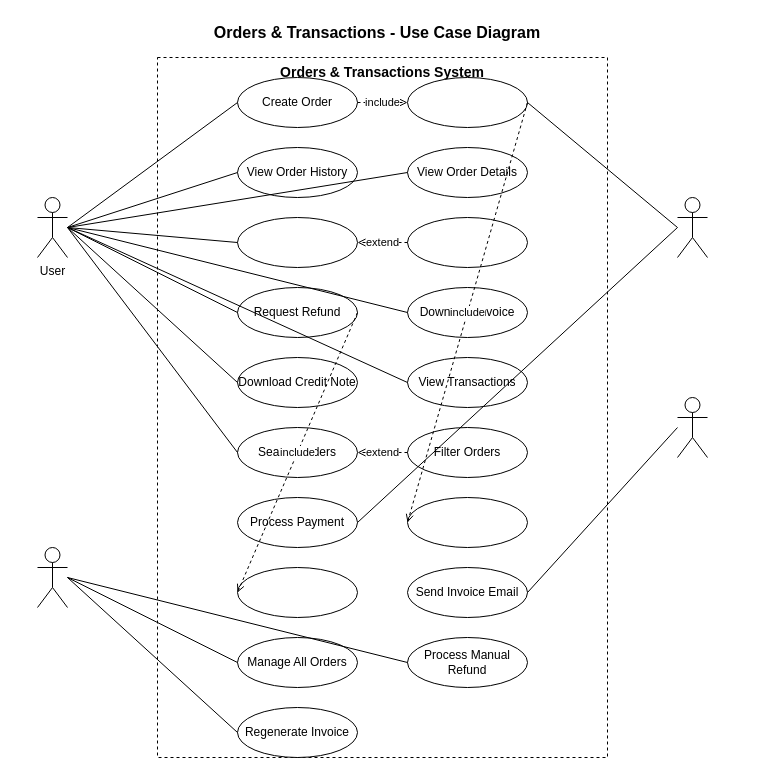
Some shapes in this 759 by 775 pixel diagram are drawn without their labels. The shapes that lost their labels are listed below. From the top down, each one's centre as x and y in pixels, then its label:
At (467,102): "Confirm Order".
At (297,242): "Cancel Order".
At (467,242): "Cancel Order Item".
At (692,227): "Payment Gateway".
At (692,427): "Email System".
At (467,522): "Generate Invoice".
At (52,577): "Administrator".
At (297,592): "Generate Credit Note".
